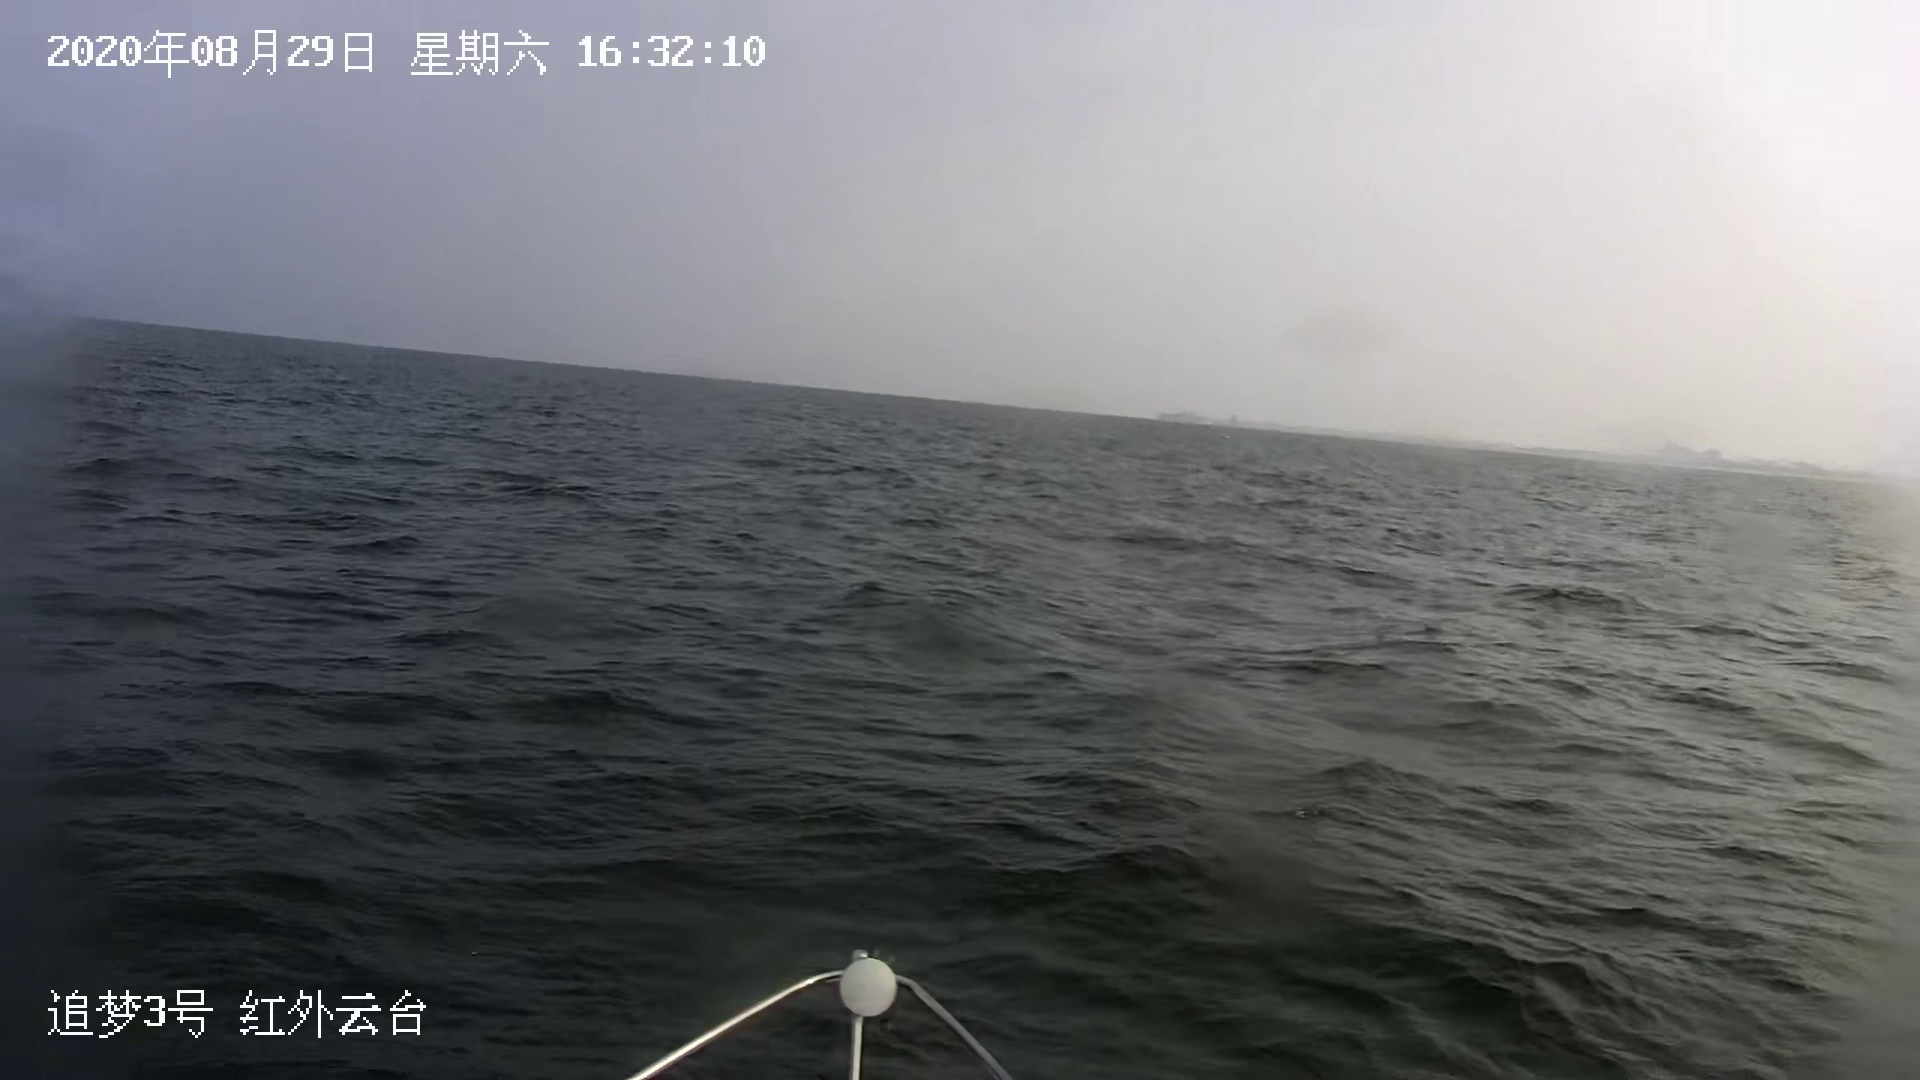coast: (1125, 400, 1920, 502)
